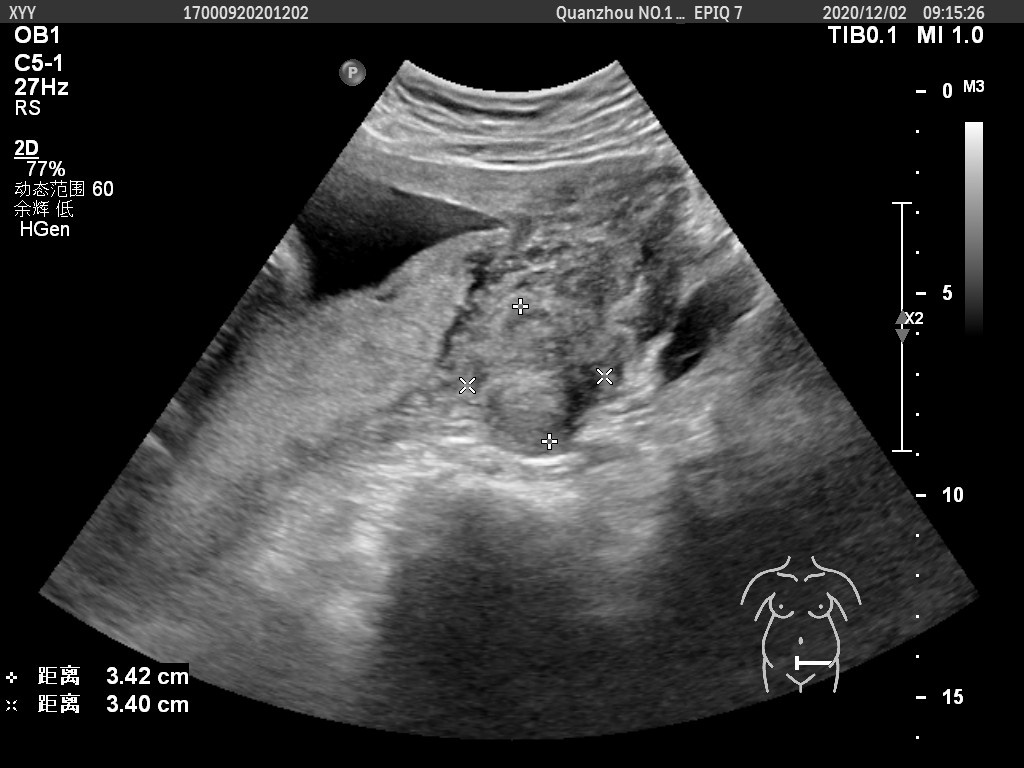肌瘤: (472, 316, 598, 450)
